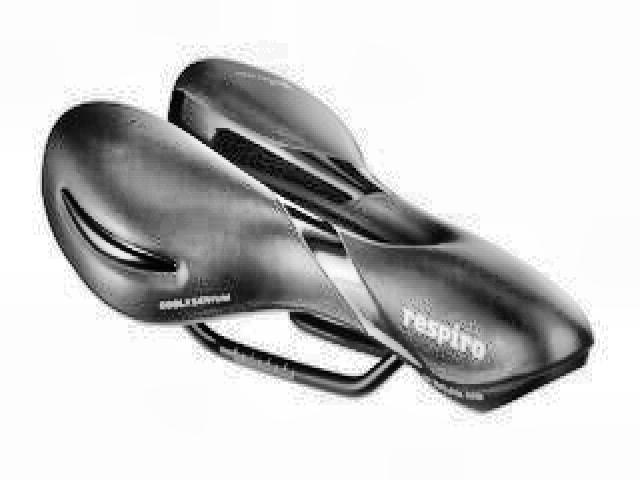saddle: (39, 52, 595, 418)
